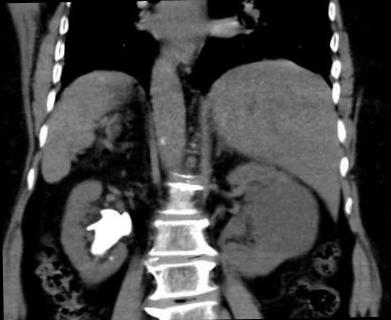Tas_Var: (84, 200, 134, 258)
